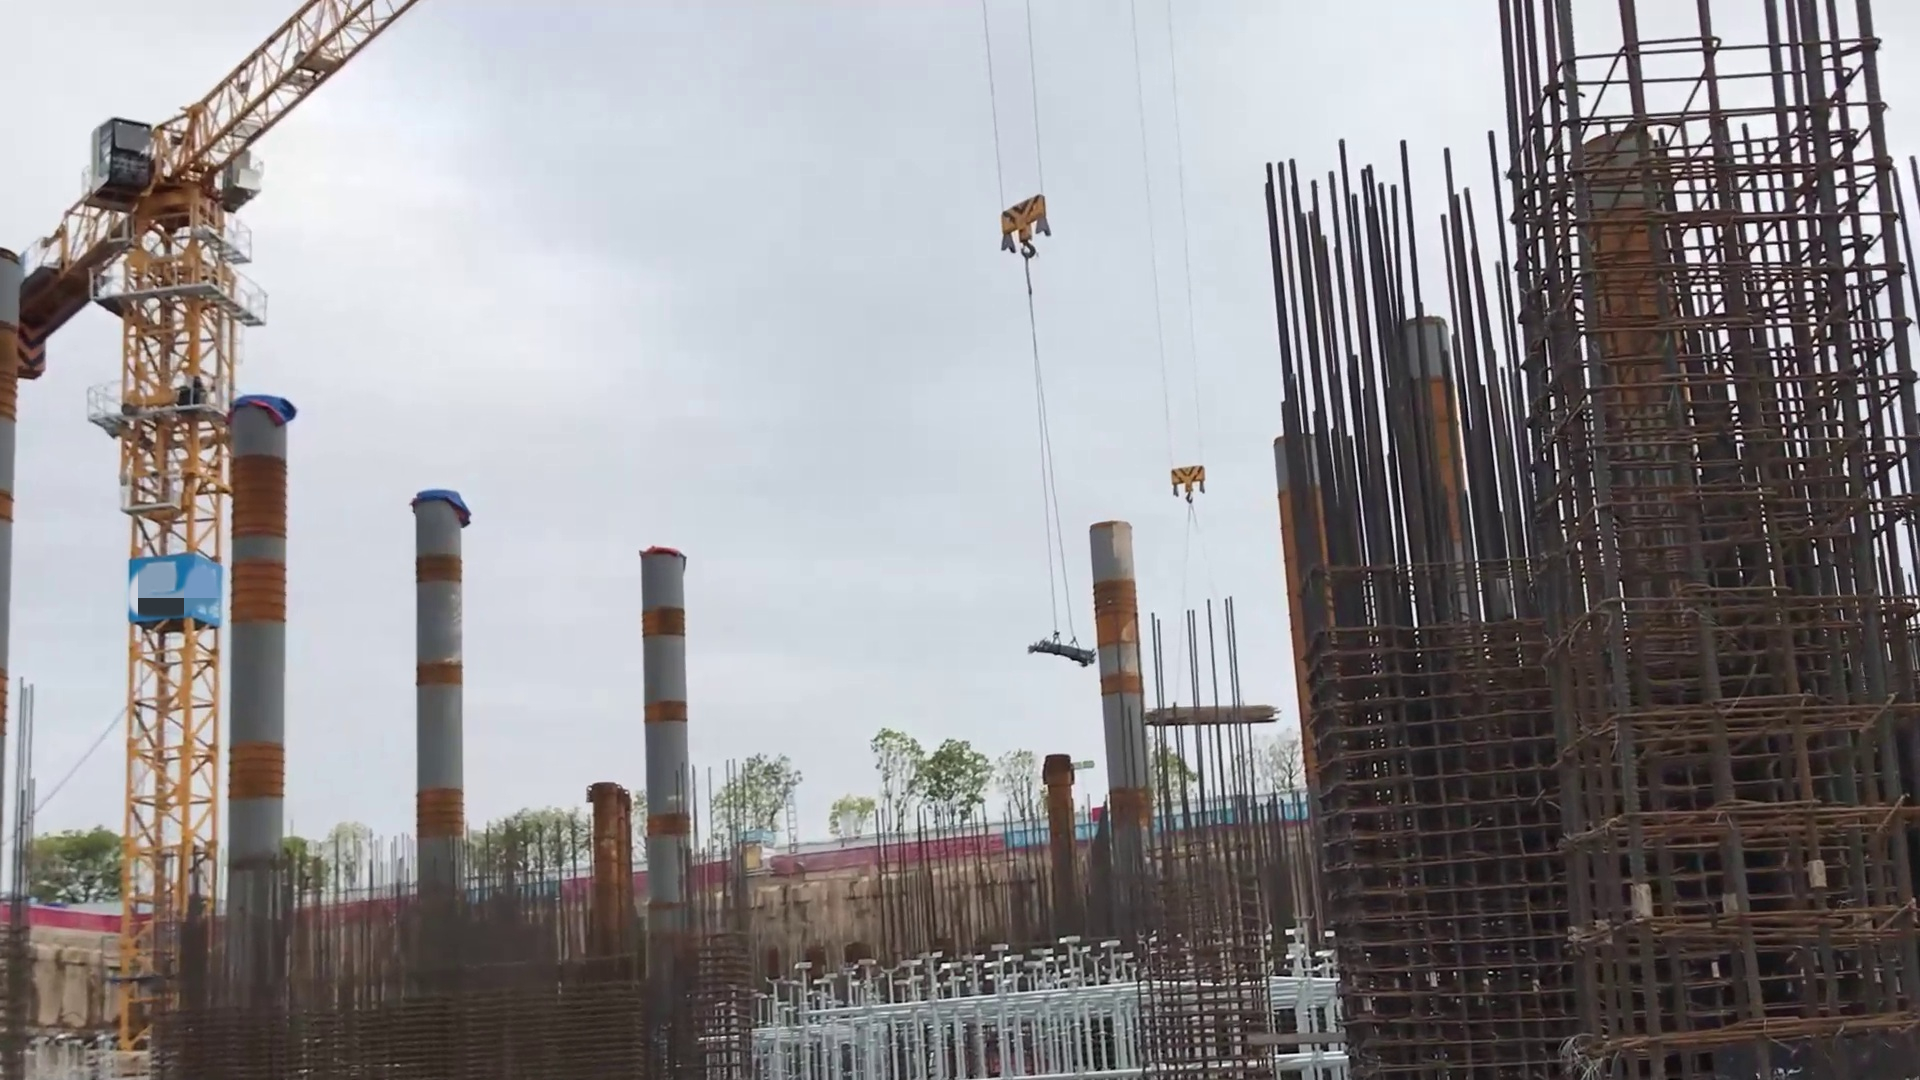hook: (996, 190, 1059, 280), (1166, 459, 1215, 516)
rebar: (1023, 638, 1097, 671)
wood: (1145, 692, 1288, 744)
